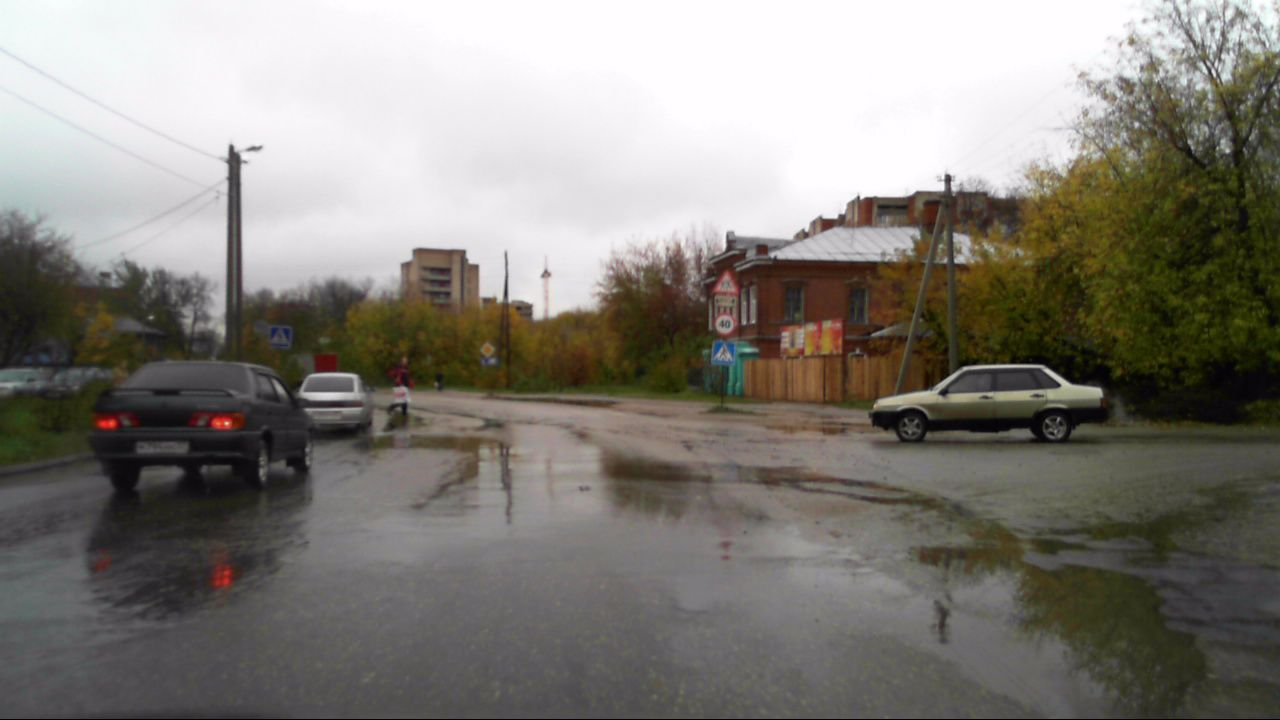speed_warning_40: (714, 313, 735, 335)
